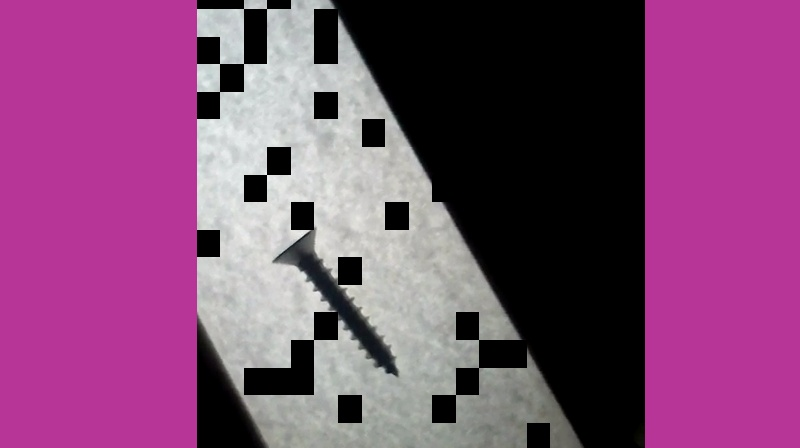S001: (266, 223, 401, 381)
